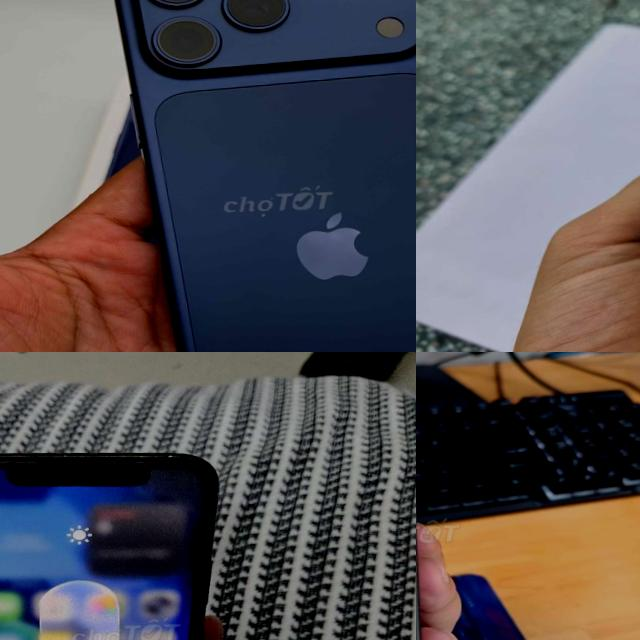scratch: (0, 445, 205, 473)
